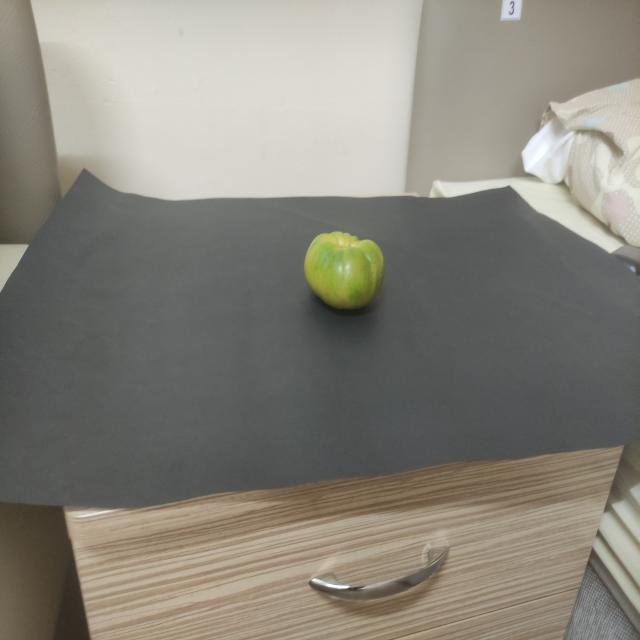yesil: (299, 210, 399, 326)
